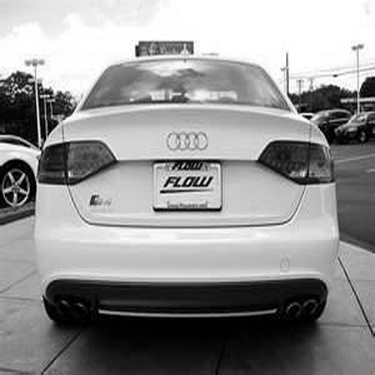car: (19, 44, 349, 344), (3, 123, 47, 215), (299, 100, 353, 144), (332, 97, 373, 146)
